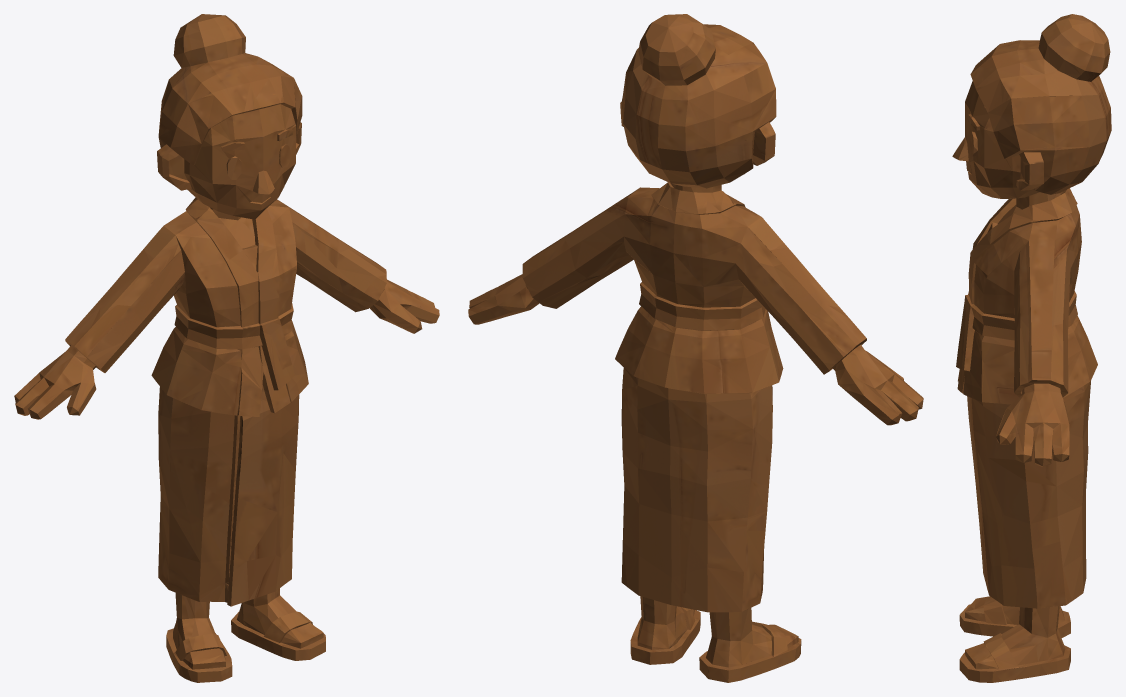
3 renders of one model, left to right at view 1: azimuth 30°, elevation 25°; view 2: azimuth 150°, elevation 25°; view 3: azimuth 270°, elevation 25°, orthographic. The views are drawn at different scales.
Visible parts, largest first — view 1: texture_pbr_v128; view 2: texture_pbr_v128; view 3: texture_pbr_v128.
Part boxes in pixels (x1,y1,x2,y2): texture_pbr_v128: (14,14,439,682); texture_pbr_v128: (468,14,923,682); texture_pbr_v128: (952,14,1111,682).
Size of the model in its own units: 0.8243 by 1.16 by 0.2652.
